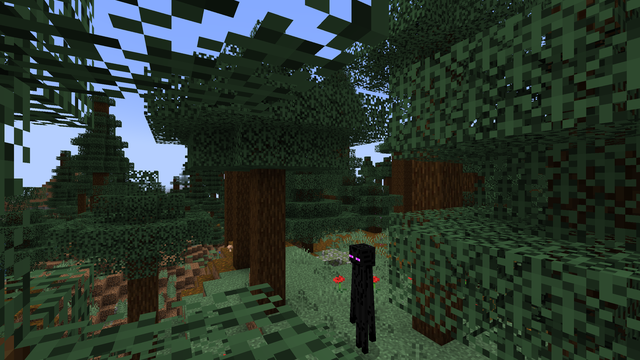endermens: (346, 239, 377, 357)
